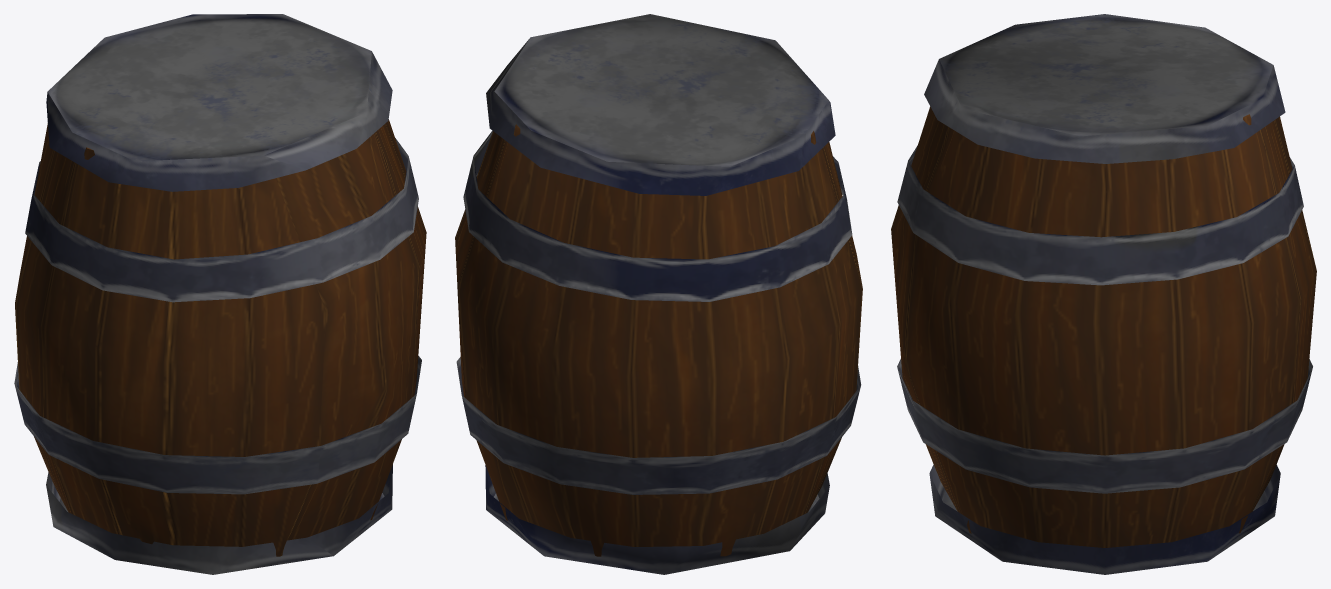
File: 4_V_Barril_Claro2_LOD_1.fbx
The picture shows the model from 3 angles, left to right: view 1: azimuth 30°, elevation 25°; view 2: azimuth 150°, elevation 25°; view 3: azimuth 270°, elevation 25°; orthographic projection. The views are drawn at different scales.
Visible parts, largest first — view 1: 4_V_Barril_Claro2_LOD_1; view 2: 4_V_Barril_Claro2_LOD_1; view 3: 4_V_Barril_Claro2_LOD_1.
Part boxes in pixels (x1,y1,x2,y2): 4_V_Barril_Claro2_LOD_1: [14, 14, 426, 574]; 4_V_Barril_Claro2_LOD_1: [455, 14, 862, 574]; 4_V_Barril_Claro2_LOD_1: [891, 14, 1316, 574].
Bounding box in the file's own units: 96.21 × 109 × 96.85.
